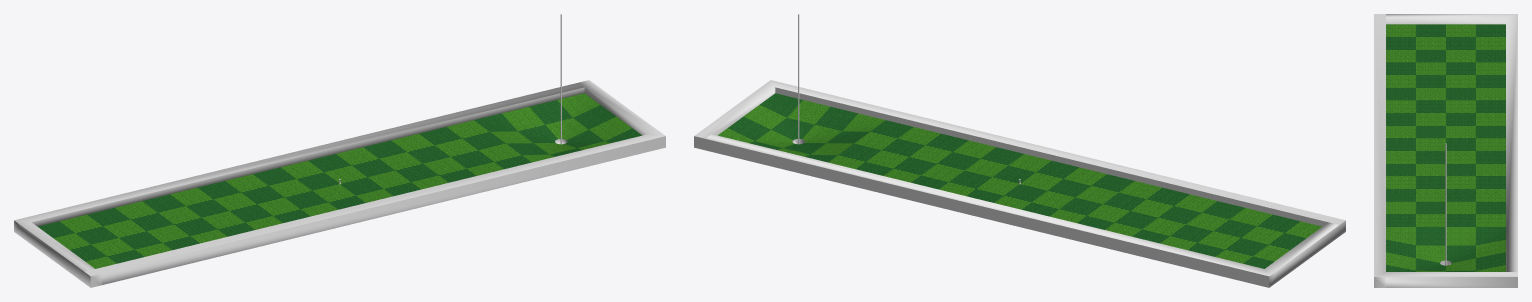
3 views of the same model, side by side, from view 1: azimuth 30°, elevation 25°; view 2: azimuth 150°, elevation 25°; view 3: azimuth 270°, elevation 25° (orthographic). The views are drawn at different scales.
Parts seen in each view (by area): view 1: ground, barrier; view 2: ground, barrier; view 3: ground, barrier, flagstick.
Boxes of the visible parts, x1,y1,x2,y2 form: ground: (38, 93, 641, 268); barrier: (14, 80, 665, 287); ground: (718, 93, 1321, 268); barrier: (694, 80, 1345, 287); ground: (1386, 24, 1505, 271); barrier: (1374, 14, 1517, 287); flagstick: (1445, 143, 1446, 265).
Bounding box in the file's own units: 104 × 23 × 24.
